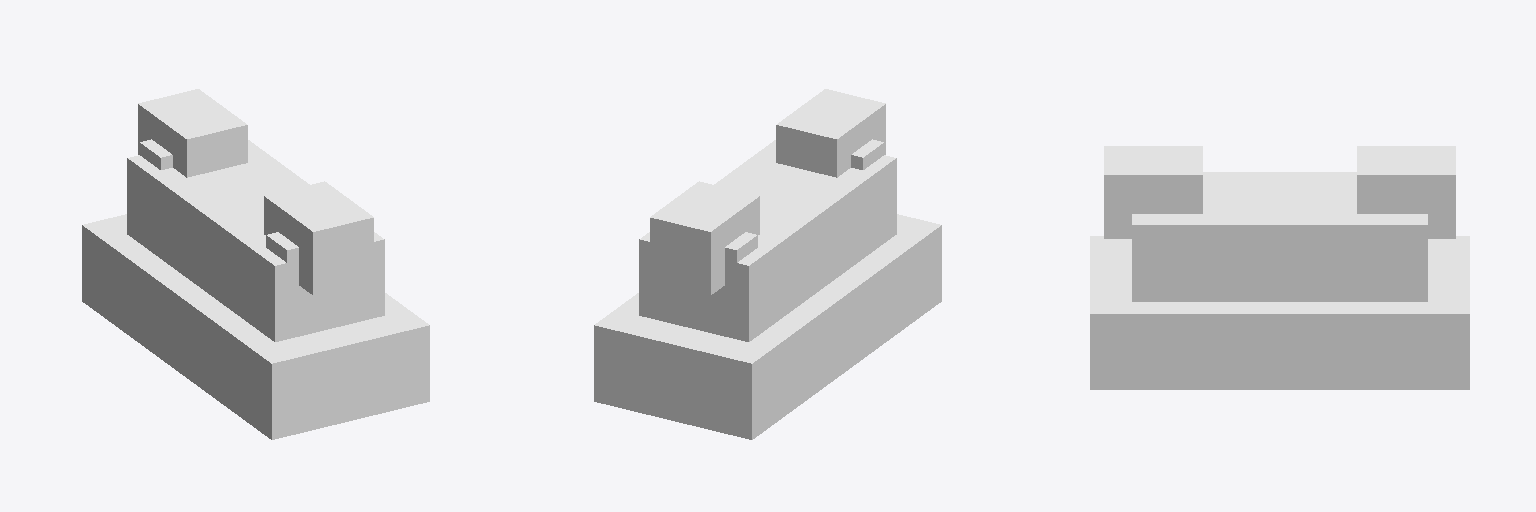
Rendered from Lagushka-1.obj.
The picture shows the model from 3 angles: view 1: azimuth 30°, elevation 25°; view 2: azimuth 150°, elevation 25°; view 3: azimuth 270°, elevation 25°; orthographic projection.
Parts seen in each view (by area): view 1: object 1; view 2: object 1; view 3: object 1.
Part boxes in pixels (left/top/right/bottom): object 1: left=82, top=89, right=429, bottom=439; object 1: left=594, top=89, right=941, bottom=439; object 1: left=1090, top=146, right=1469, bottom=389.
Bounding box in the file's own units: 1.3 × 1.5 × 2.7.